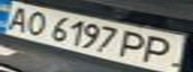1: (63, 17, 84, 47)
6: (45, 14, 72, 44)
7: (96, 24, 124, 56)
9: (78, 20, 103, 52)
A: (0, 3, 33, 33)
O: (18, 9, 51, 37)
P: (136, 34, 187, 66), (115, 28, 154, 61)
